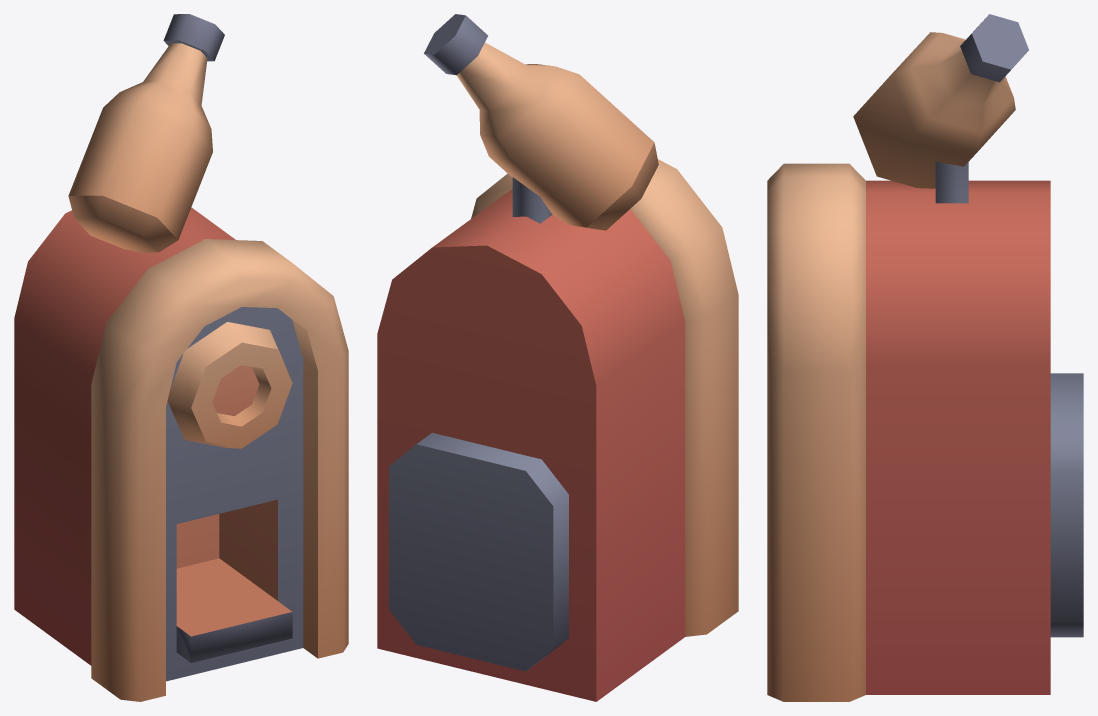
File: bottle-return.obj
3 renders of one model, left to right at view 1: azimuth 30°, elevation 25°; view 2: azimuth 150°, elevation 25°; view 3: azimuth 270°, elevation 25°, orthographic. The views are drawn at different scales.
Parts seen in each view (by area): view 1: bottle-return; view 2: bottle-return; view 3: bottle-return.
Part boxes in pixels (x1,y1,x2,y2): bottle-return: (14, 14, 348, 701); bottle-return: (377, 14, 738, 701); bottle-return: (767, 14, 1083, 701).
Bounding box in the file's own units: 0.45 × 1.09 × 0.481.
